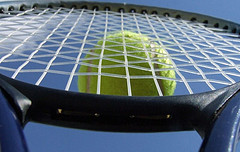tennis ball: (76, 29, 180, 108)
